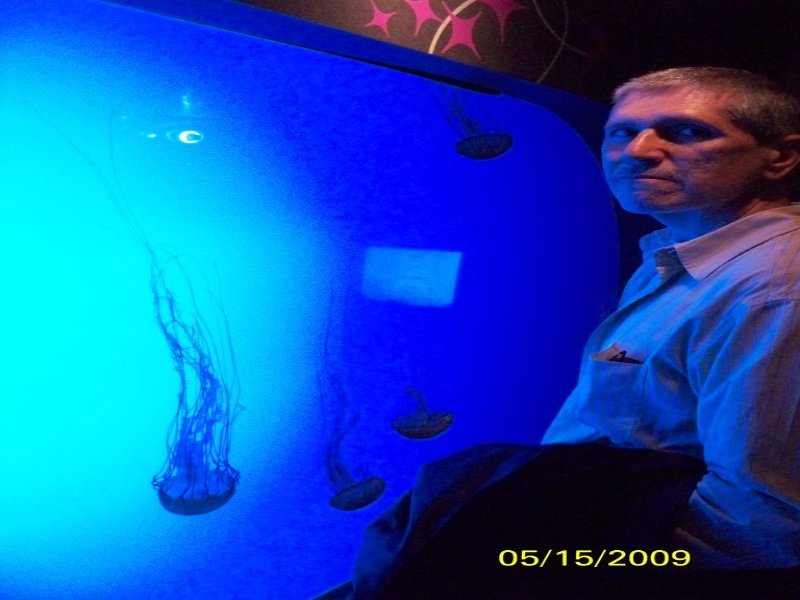Jellyfish: (110, 137, 281, 527), (320, 321, 401, 516), (416, 73, 523, 161), (392, 373, 458, 442)
